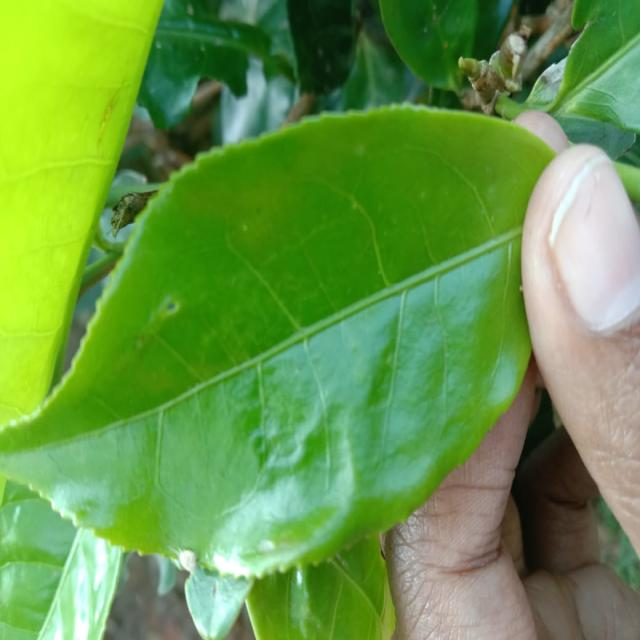Category B 2-4 days: (0, 84, 615, 585)
